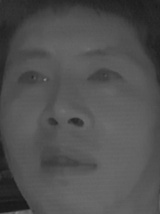eye: (86, 63, 126, 88), (17, 67, 53, 88)
mouth: (35, 140, 101, 185)
